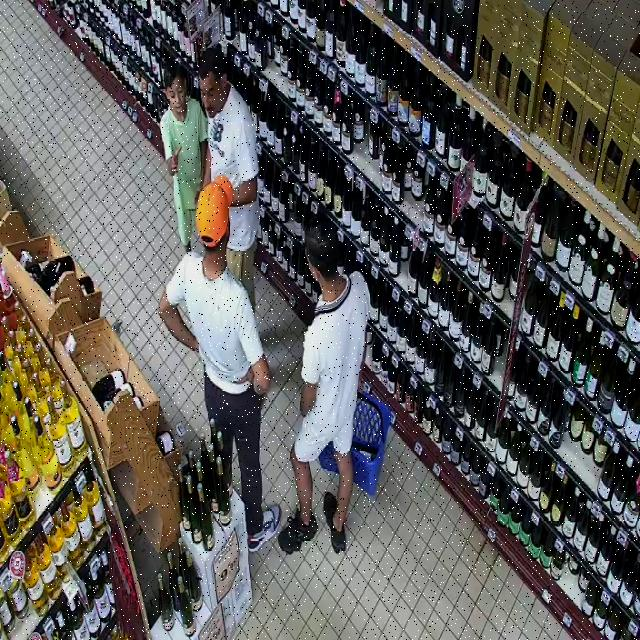hands: (168, 147, 180, 176)
person: (160, 176, 280, 551), (279, 216, 369, 553), (199, 48, 259, 306), (160, 62, 208, 252)
